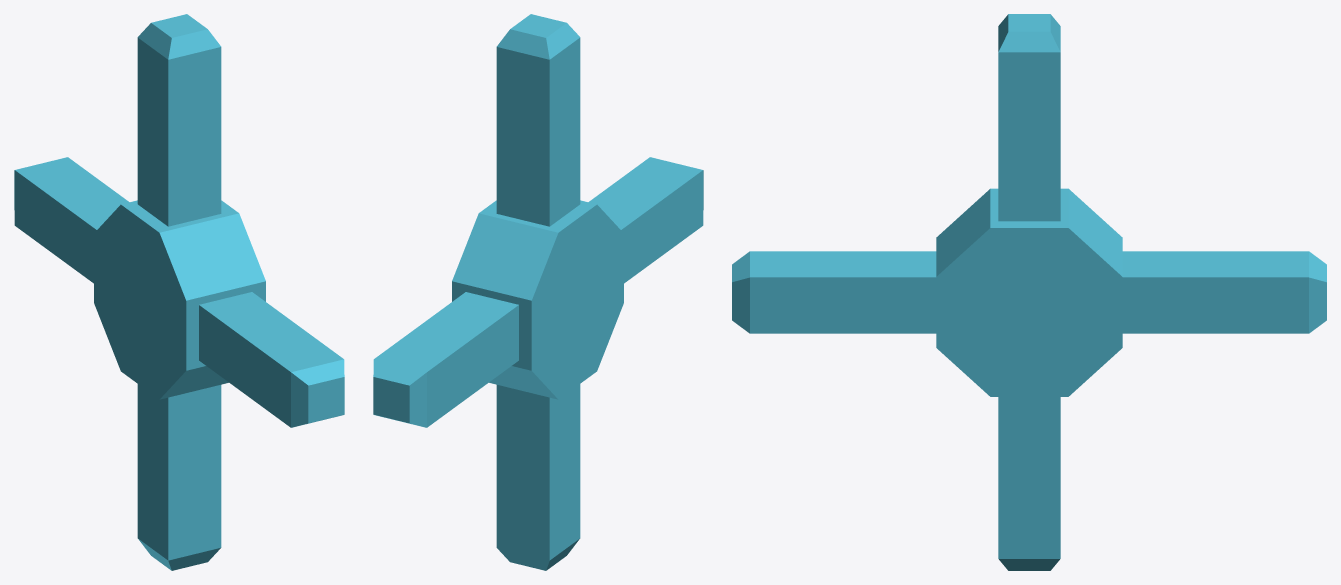
Rendered from HealPack.FBX.
The picture shows the model from 3 angles, left to right: view 1: azimuth 30°, elevation 25°; view 2: azimuth 150°, elevation 25°; view 3: azimuth 270°, elevation 25°; orthographic projection.
Visible parts, largest first — view 1: Box001; view 2: Box001; view 3: Box001.
Part boxes in pixels (left/top/right/bottom): Box001: left=14, top=14, right=344, bottom=570; Box001: left=373, top=14, right=703, bottom=570; Box001: left=732, top=14, right=1326, bottom=570.
Bounding box in the file's own units: 5 × 31.93 × 31.92.
